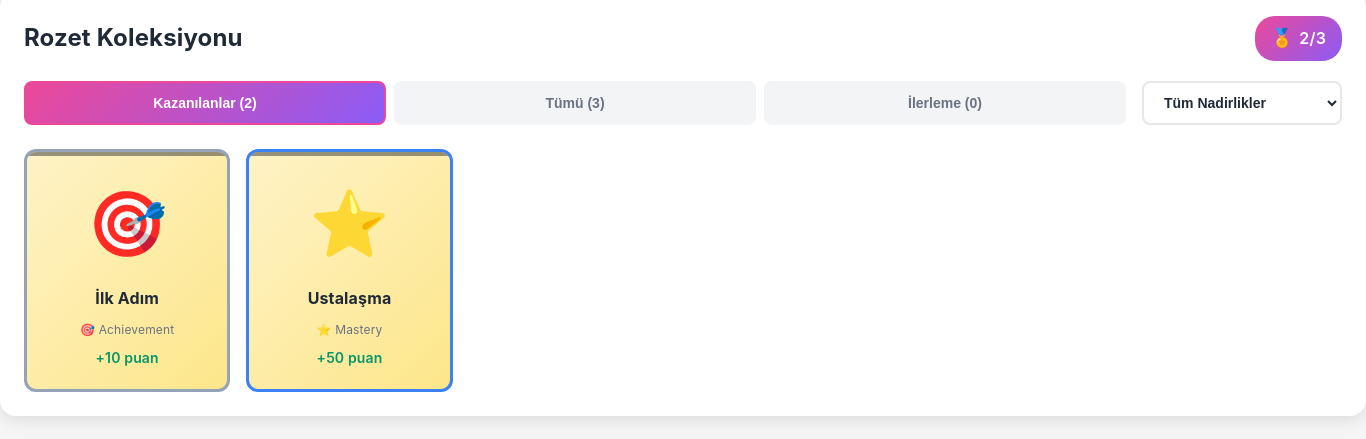
Test: BadgeCollection - Rarity Filter › filters by rare rarity
The width and height of the screenshot is (1366, 439).
Step 1. Select "Çok Nadir" in the dropdown → x=1242, y=103, box [1142, 81, 1342, 125]
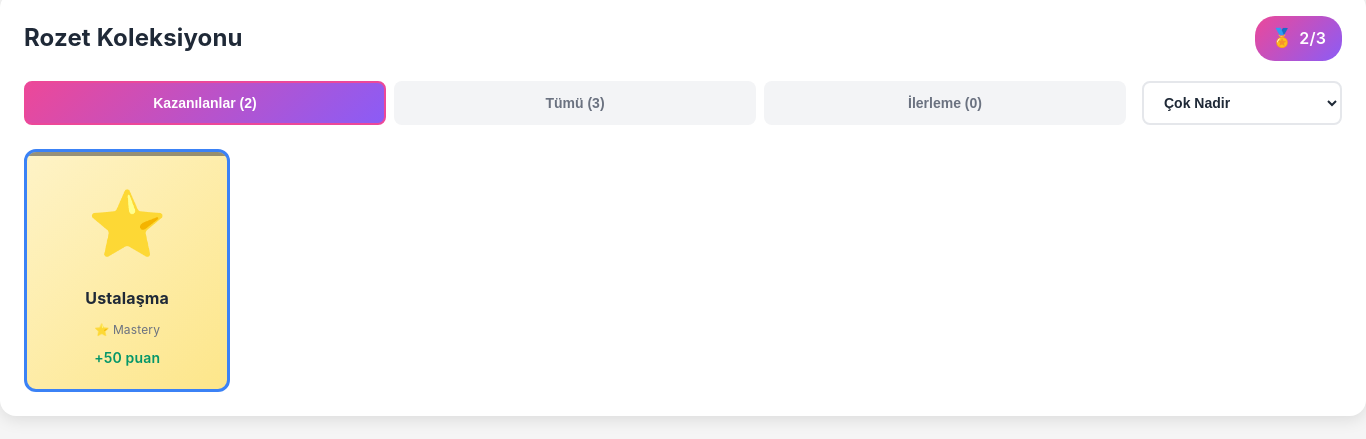
Expected: the text "Ustalaşma" is shown, [85, 288, 169, 308]
Now the text "İlk Adım" is gone
